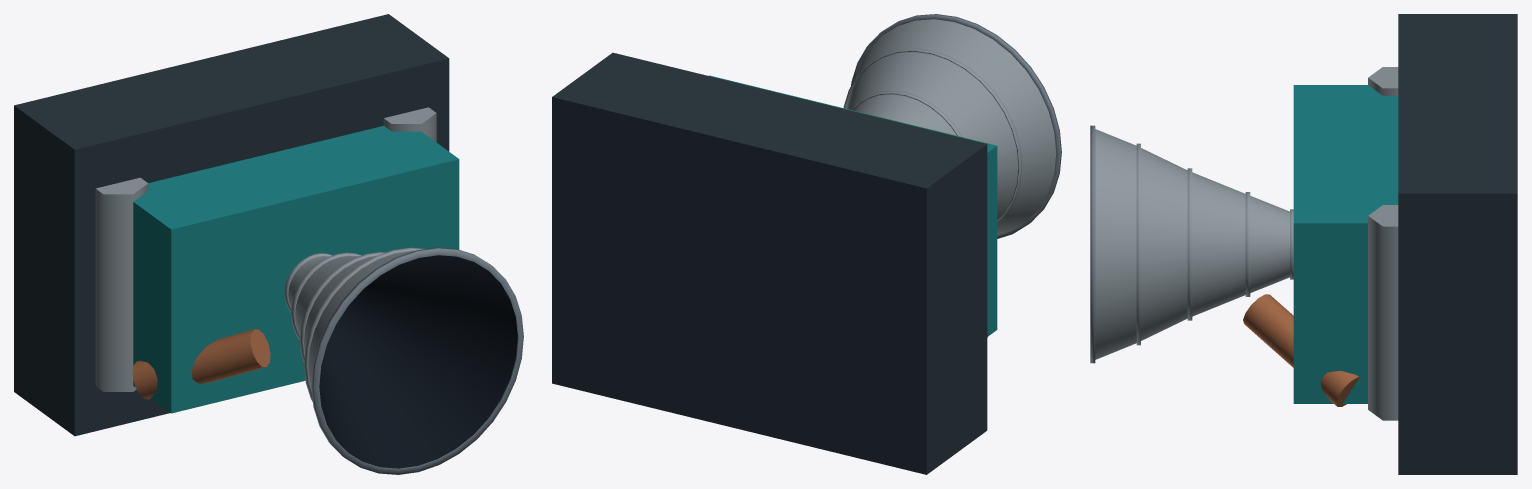
File: r_08_shepot.glb
3 views of the same model, side by side, from view 1: azimuth 30°, elevation 25°; view 2: azimuth 150°, elevation 25°; view 3: azimuth 270°, elevation 25° (orthographic).
Visible parts, largest first — view 1: r_08_shepot.mesh_JUGRE_·_graphite_composite, r_08_shepot.mesh_JUGRE_·_signal_teal, r_08_shepot.nozzle.mesh_Shadowed_interior, r_08_shepot.mesh_JUGRE_·_bead-blasted_titanium, r_08_shepot.nozzle.mesh_JUGRE_·_bead-blasted_titanium, r_08_shepot.nozzle.mesh_Machined_steel, r_08_shepot.mesh_JUGRE_·_heat-resistant_copper; view 2: r_08_shepot.mesh_JUGRE_·_graphite_composite, r_08_shepot.nozzle.mesh_JUGRE_·_bead-blasted_titanium, r_08_shepot.mesh_JUGRE_·_signal_teal, r_08_shepot.nozzle.mesh_Machined_steel; view 3: r_08_shepot.mesh_JUGRE_·_graphite_composite, r_08_shepot.nozzle.mesh_JUGRE_·_bead-blasted_titanium, r_08_shepot.mesh_JUGRE_·_signal_teal, r_08_shepot.mesh_JUGRE_·_bead-blasted_titanium, r_08_shepot.mesh_JUGRE_·_heat-resistant_copper, r_08_shepot.nozzle.mesh_Machined_steel.
Part boxes in pixels (<box>): r_08_shepot.mesh_JUGRE_·_graphite_composite: <box>14,14,449,436</box>; r_08_shepot.mesh_JUGRE_·_signal_teal: <box>133,125,459,413</box>; r_08_shepot.nozzle.mesh_Shadowed_interior: <box>319,255,517,468</box>; r_08_shepot.mesh_JUGRE_·_bead-blasted_titanium: <box>95,107,436,391</box>; r_08_shepot.nozzle.mesh_JUGRE_·_bead-blasted_titanium: <box>284,247,425,401</box>; r_08_shepot.nozzle.mesh_Machined_steel: <box>311,247,523,474</box>; r_08_shepot.mesh_JUGRE_·_heat-resistant_copper: <box>132,329,270,399</box>; r_08_shepot.mesh_JUGRE_·_graphite_composite: <box>552,52,987,474</box>; r_08_shepot.nozzle.mesh_JUGRE_·_bead-blasted_titanium: <box>843,19,1056,235</box>; r_08_shepot.mesh_JUGRE_·_signal_teal: <box>709,75,997,336</box>; r_08_shepot.nozzle.mesh_Machined_steel: <box>851,14,1061,238</box>; r_08_shepot.mesh_JUGRE_·_graphite_composite: <box>1398,14,1517,474</box>; r_08_shepot.nozzle.mesh_JUGRE_·_bead-blasted_titanium: <box>1095,129,1293,359</box>; r_08_shepot.mesh_JUGRE_·_signal_teal: <box>1293,85,1398,403</box>; r_08_shepot.mesh_JUGRE_·_bead-blasted_titanium: <box>1368,67,1398,420</box>; r_08_shepot.mesh_JUGRE_·_heat-resistant_copper: <box>1243,294,1359,406</box>; r_08_shepot.nozzle.mesh_Machined_steel: <box>1090,125,1095,363</box>.
Size of the model in its own units: 0.26 by 0.19 by 0.2615.
